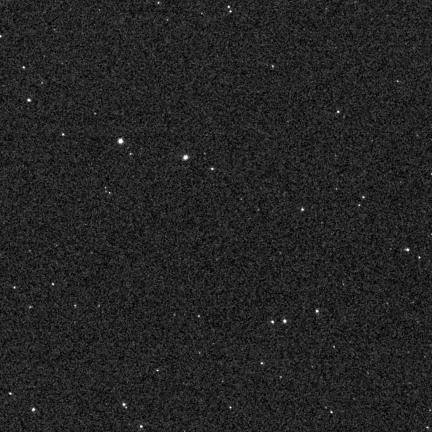blob: (118, 138, 123, 144), (184, 155, 188, 160), (283, 319, 287, 324), (32, 408, 36, 412), (301, 208, 305, 212), (337, 111, 341, 114), (27, 99, 31, 102), (315, 309, 318, 313), (211, 168, 215, 171), (271, 321, 275, 324), (23, 67, 26, 70), (63, 133, 65, 137)
